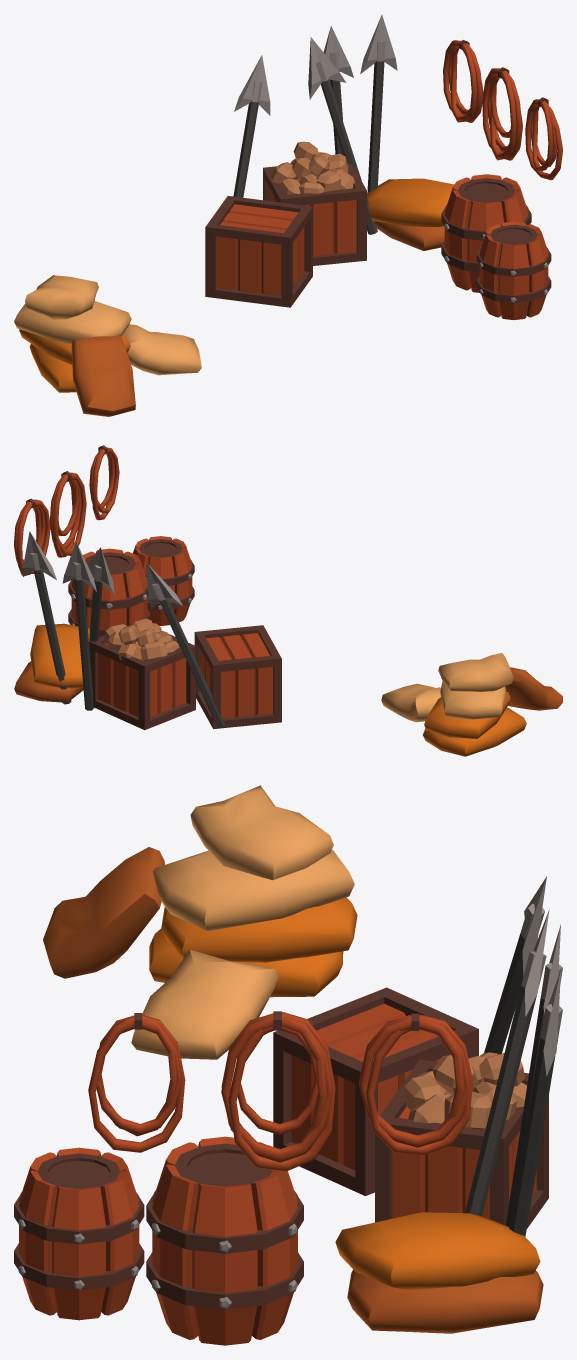
File: utility room2.fbx
3 renders of one model, top to bottom at view 1: azimuth 30°, elevation 25°; view 2: azimuth 150°, elevation 25°; view 3: azimuth 270°, elevation 25°, orthographic. The views are drawn at different scales.
Parts seen in each view (by area): view 1: utility room2; view 2: utility room2; view 3: utility room2.
Boxes of the visible parts, x1,y1,x2,y2 form: utility room2: (14, 14, 562, 416); utility room2: (14, 445, 562, 756); utility room2: (14, 785, 562, 1345).
Bounding box in the file's own units: 828 × 325 × 457.
